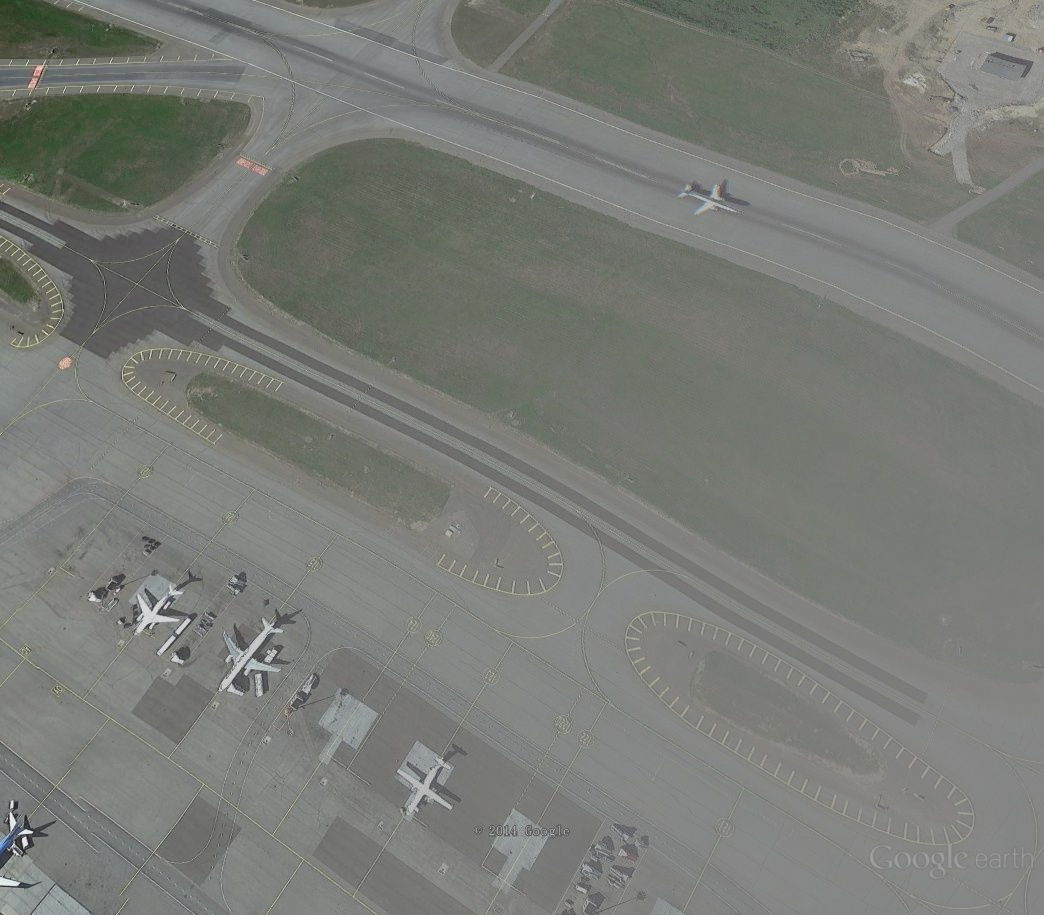aircraft: (216, 613, 289, 696), (394, 754, 459, 826), (130, 580, 187, 639), (676, 178, 742, 222)
